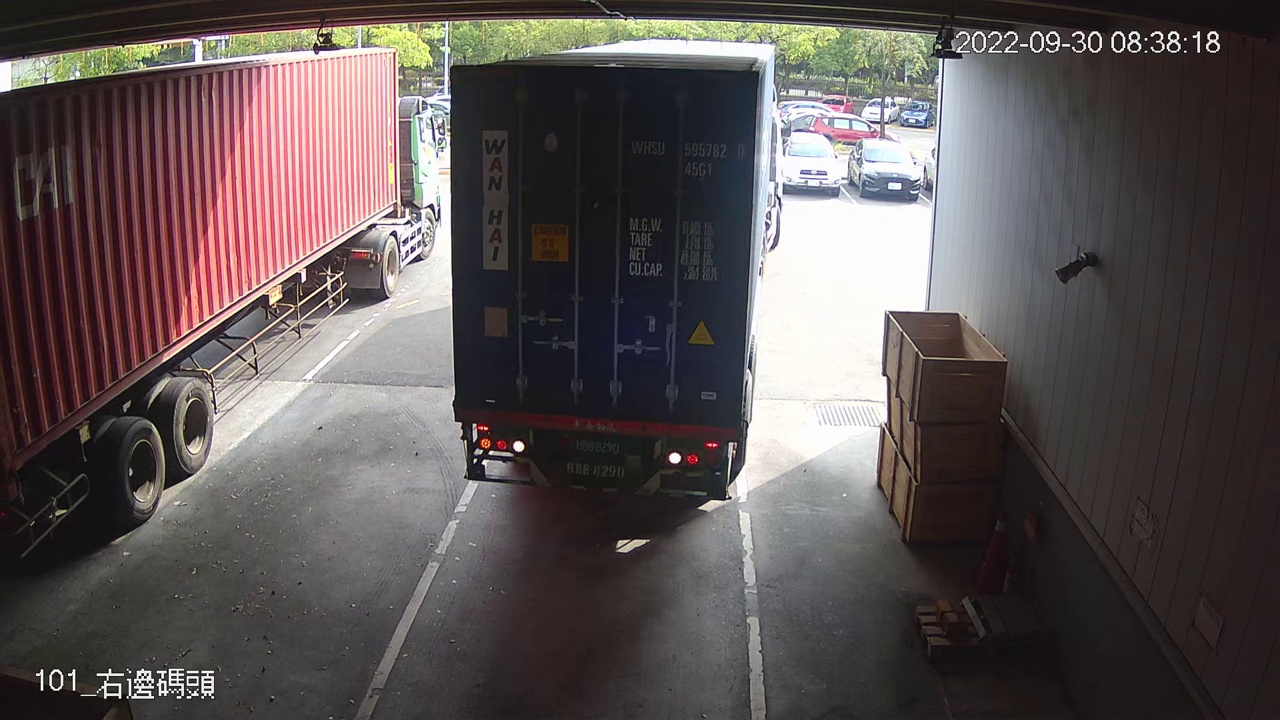container: (625, 129, 748, 182)
